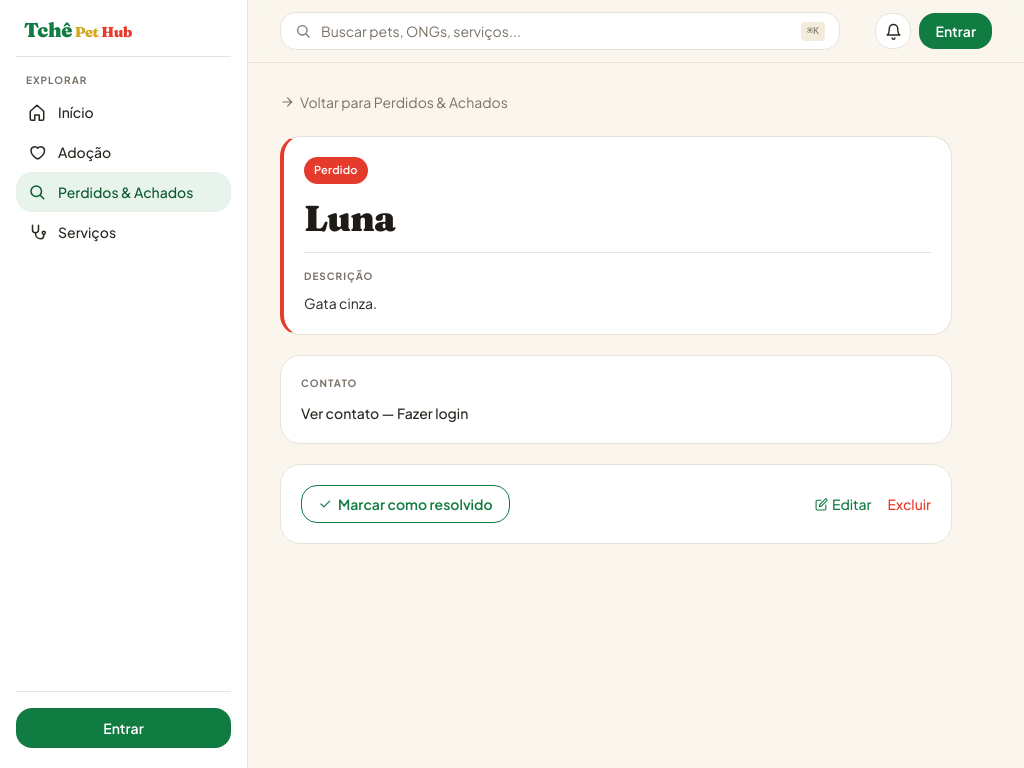
Test: LostFoundDetailPage — delete › creator › hides confirmation step when cancel clicked
The image size is (1024, 768).
Click the button "Excluir". click: (909, 504)
box: [888,494,931,514]
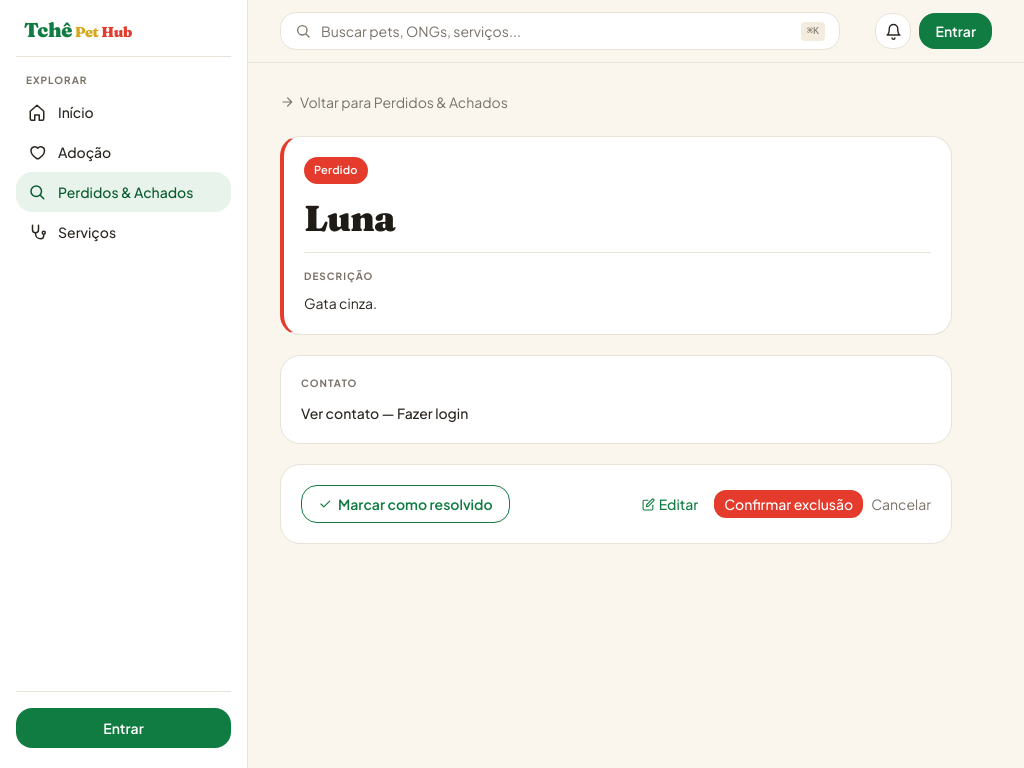
Click the button "Cancelar". click: (901, 504)
box: [871,494,931,514]
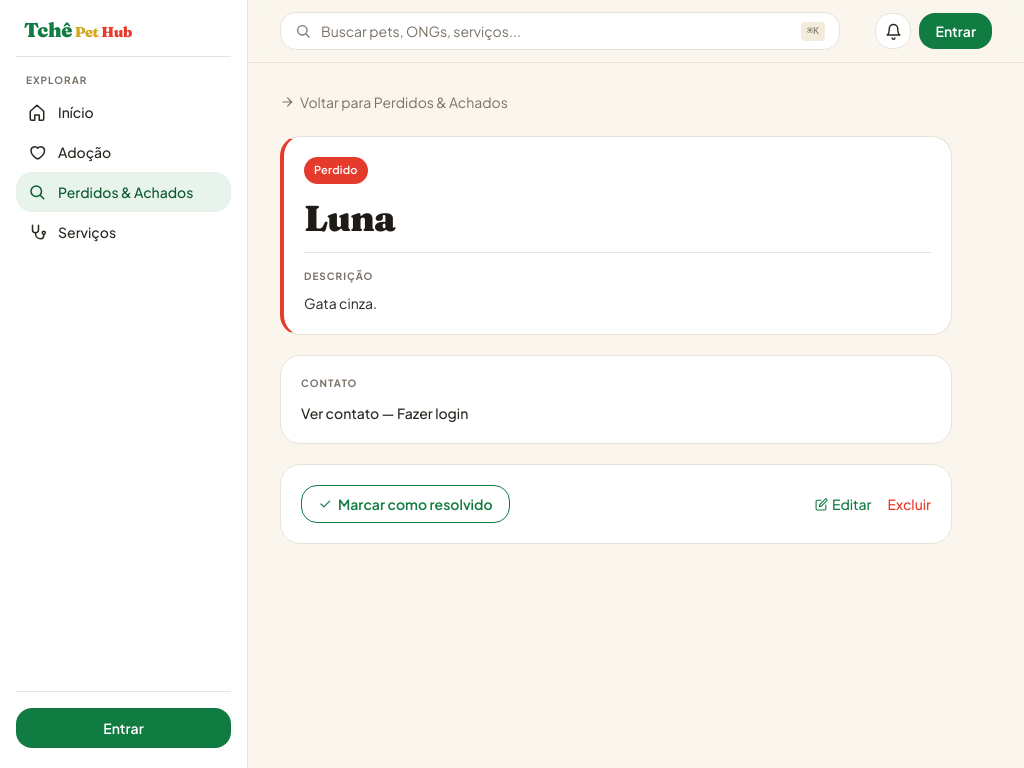
Expected: the button "Confirmar exclusão" is gone
